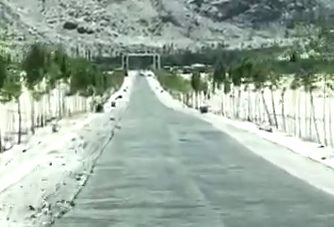left: (120, 106, 224, 201)
